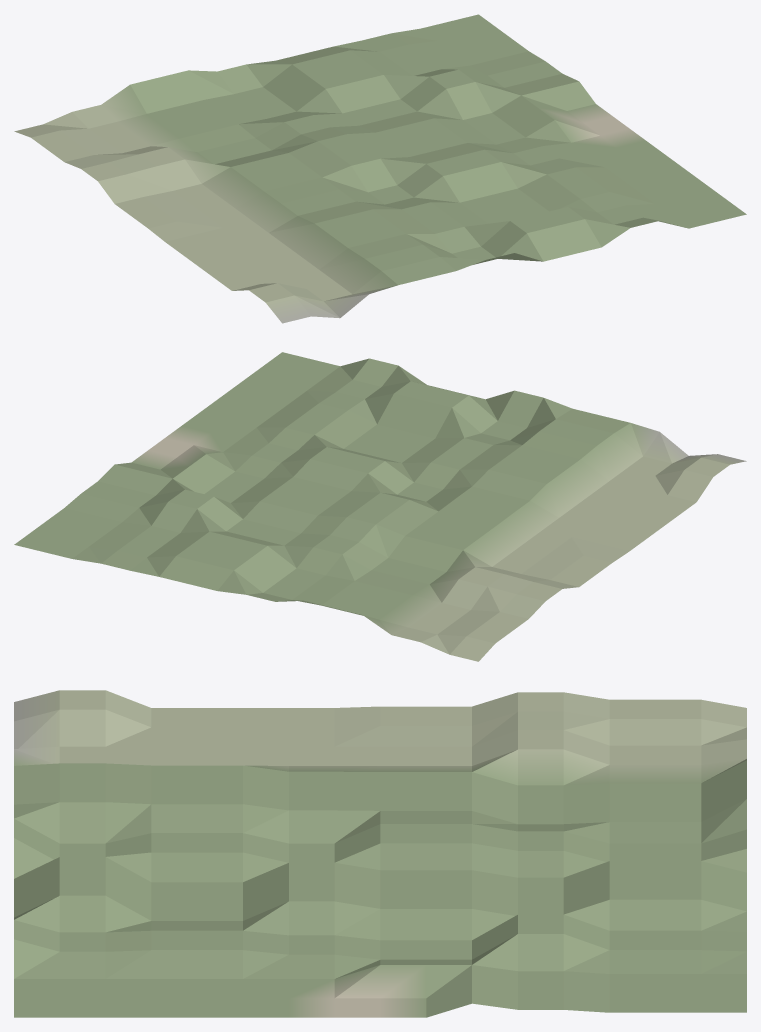
3 renders of one model, top to bottom at view 1: azimuth 30°, elevation 25°; view 2: azimuth 150°, elevation 25°; view 3: azimuth 270°, elevation 25°, orthographic. The views are drawn at different scales.
Size of the model in its own units: 32 by 1.54 by 32.
